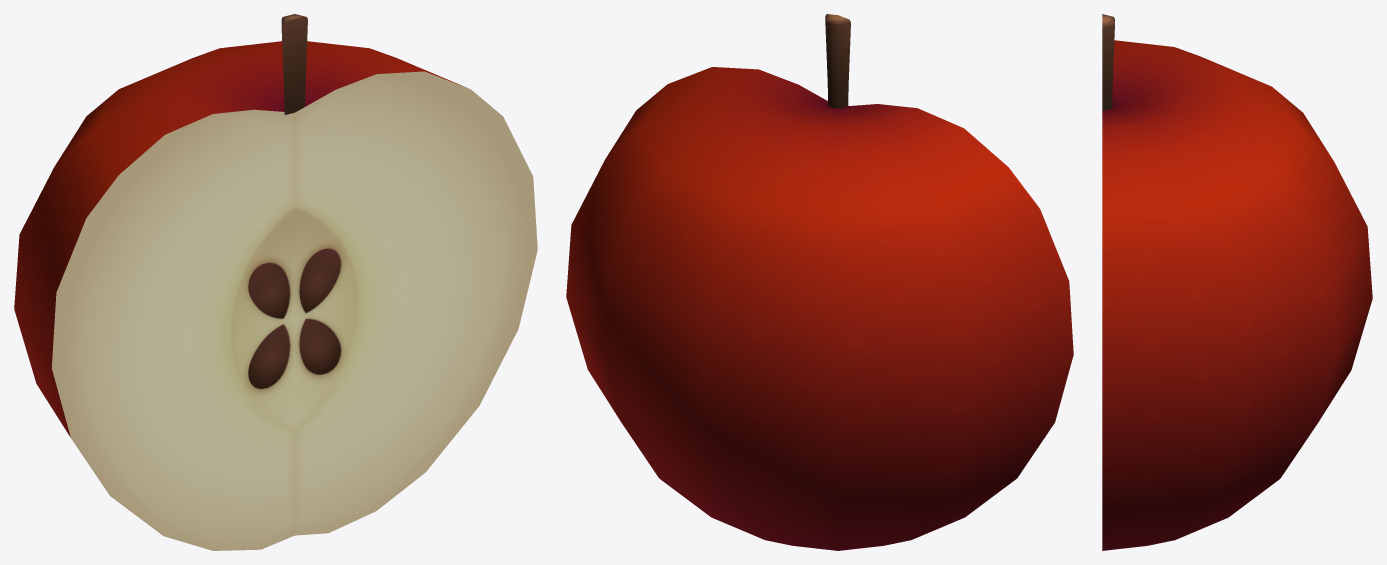
Rendered from Apple_R_Half_Front.fbx.
3 views of the same model, side by side, from view 1: azimuth 30°, elevation 25°; view 2: azimuth 150°, elevation 25°; view 3: azimuth 270°, elevation 25° (orthographic). The views are drawn at different scales.
Visible parts, largest first — view 1: Apple_R_Half_Front; view 2: Apple_R_Half_Front; view 3: Apple_R_Half_Front.
Boxes of the visible parts, box(x1,y1,x2,y2) form: Apple_R_Half_Front: box(14, 14, 537, 550); Apple_R_Half_Front: box(566, 14, 1073, 550); Apple_R_Half_Front: box(1102, 14, 1372, 550).
Size of the model in its own units: 1.66 by 1.71 by 0.8299.
